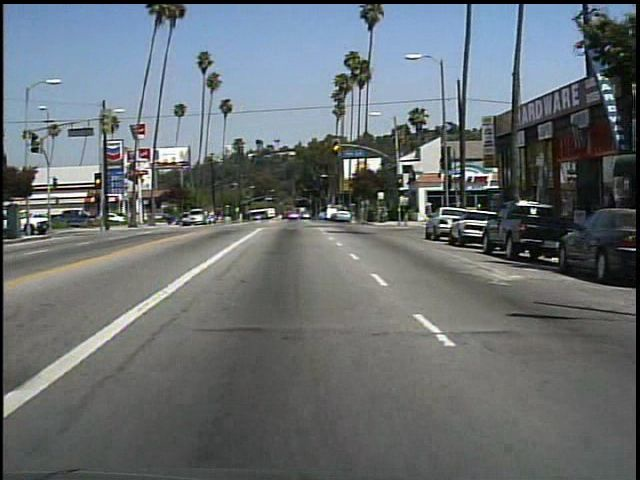person: (418, 196, 439, 222)
